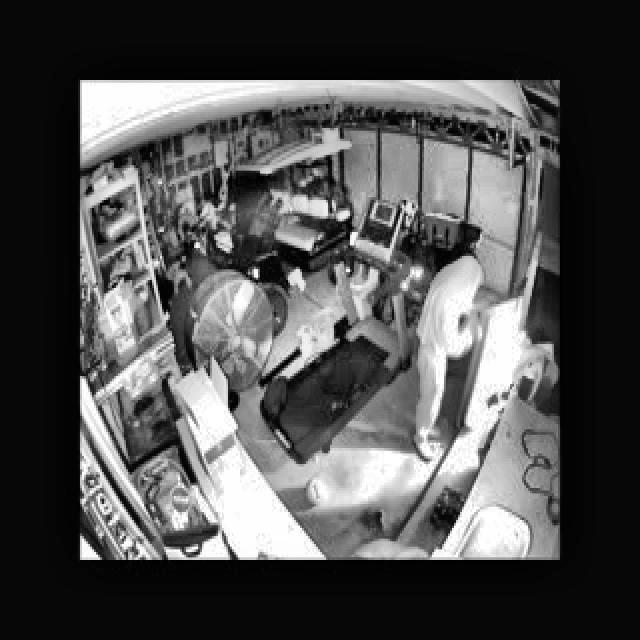burglary: (403, 250, 558, 468)
